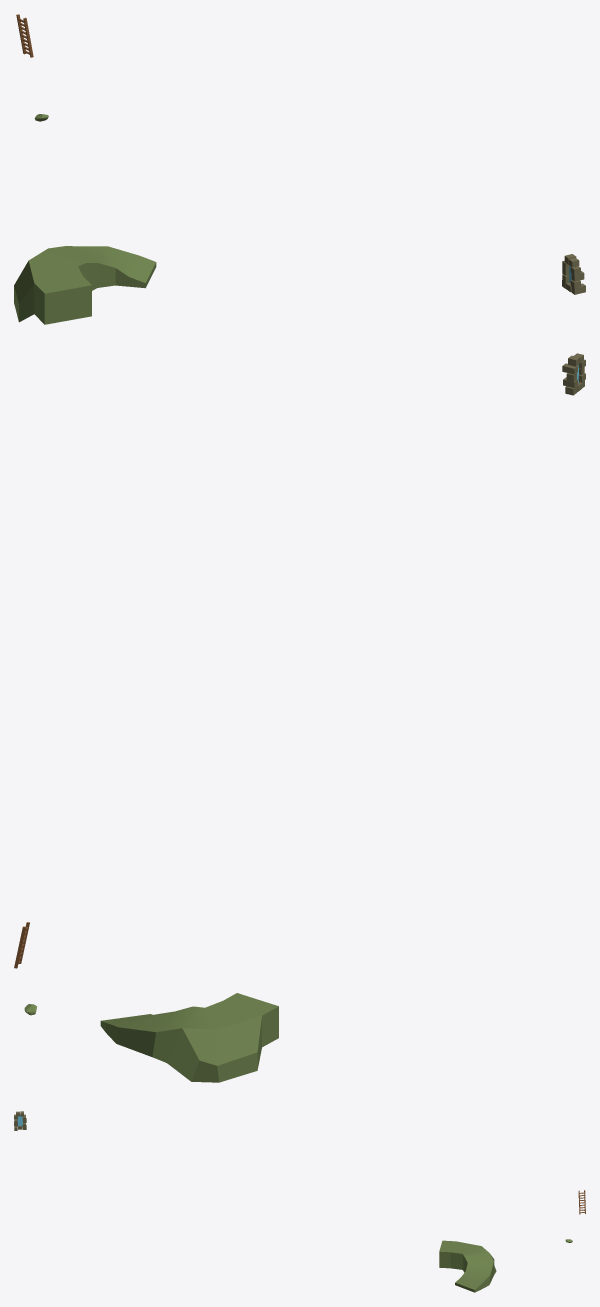
3 renders of one model, top to bottom at view 1: azimuth 30°, elevation 25°; view 2: azimuth 150°, elevation 25°; view 3: azimuth 270°, elevation 25°, orthographic. The views are drawn at different scales.
Parts seen in each view (by area): view 1: Box060_green3_0, Box15793_rock2_0; view 2: Box060_green3_0; view 3: Box060_green3_0.
Part boxes in pixels (x1=…): Box060_green3_0: x1=14, y1=246, x2=156, y2=324; Box15793_rock2_0: x1=562, y1=254, x2=585, y2=294; Box060_green3_0: x1=100, y1=993, x2=278, y2=1082; Box060_green3_0: x1=439, y1=1240, x2=496, y2=1292.
Bounding box in the file's own units: 854 × 1975 × 5635.
